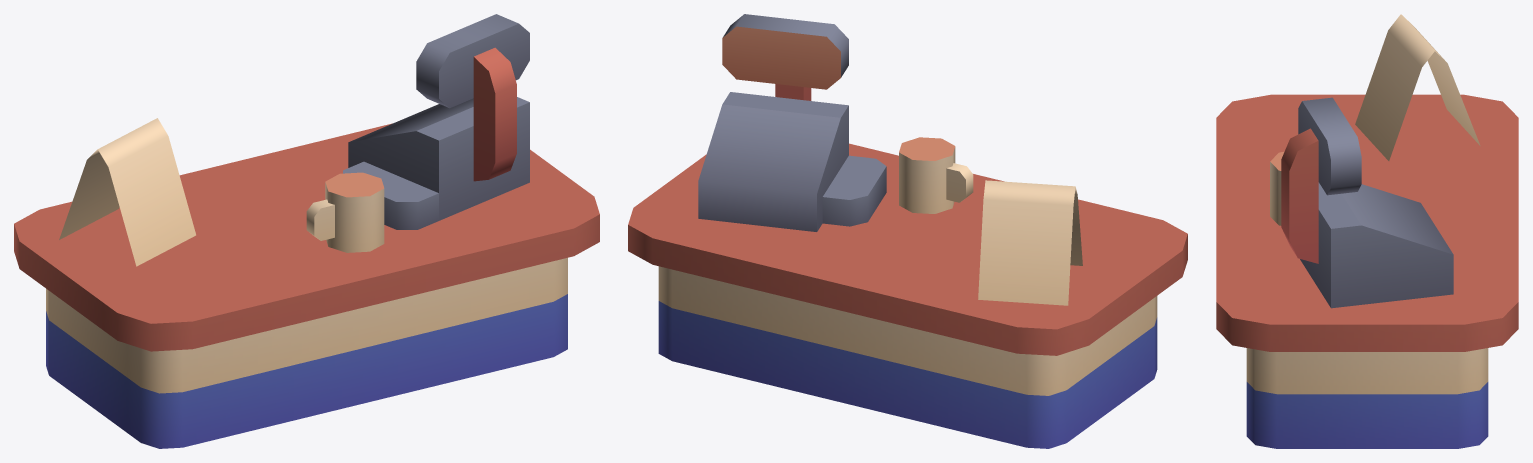
Rendered from cash-register.obj.
3 renders of one model, left to right at view 1: azimuth 30°, elevation 25°; view 2: azimuth 150°, elevation 25°; view 3: azimuth 270°, elevation 25°, orthographic. The views are drawn at different scales.
Parts seen in each view (by area): view 1: cash-register; view 2: cash-register; view 3: cash-register.
Part boxes in pixels (left/top/right/bottom): cash-register: left=14, top=14, right=599, bottom=448; cash-register: left=628, top=14, right=1187, bottom=448; cash-register: left=1216, top=14, right=1518, bottom=448.
Size of the model in its own units: 0.9 by 0.5449 by 0.5.
